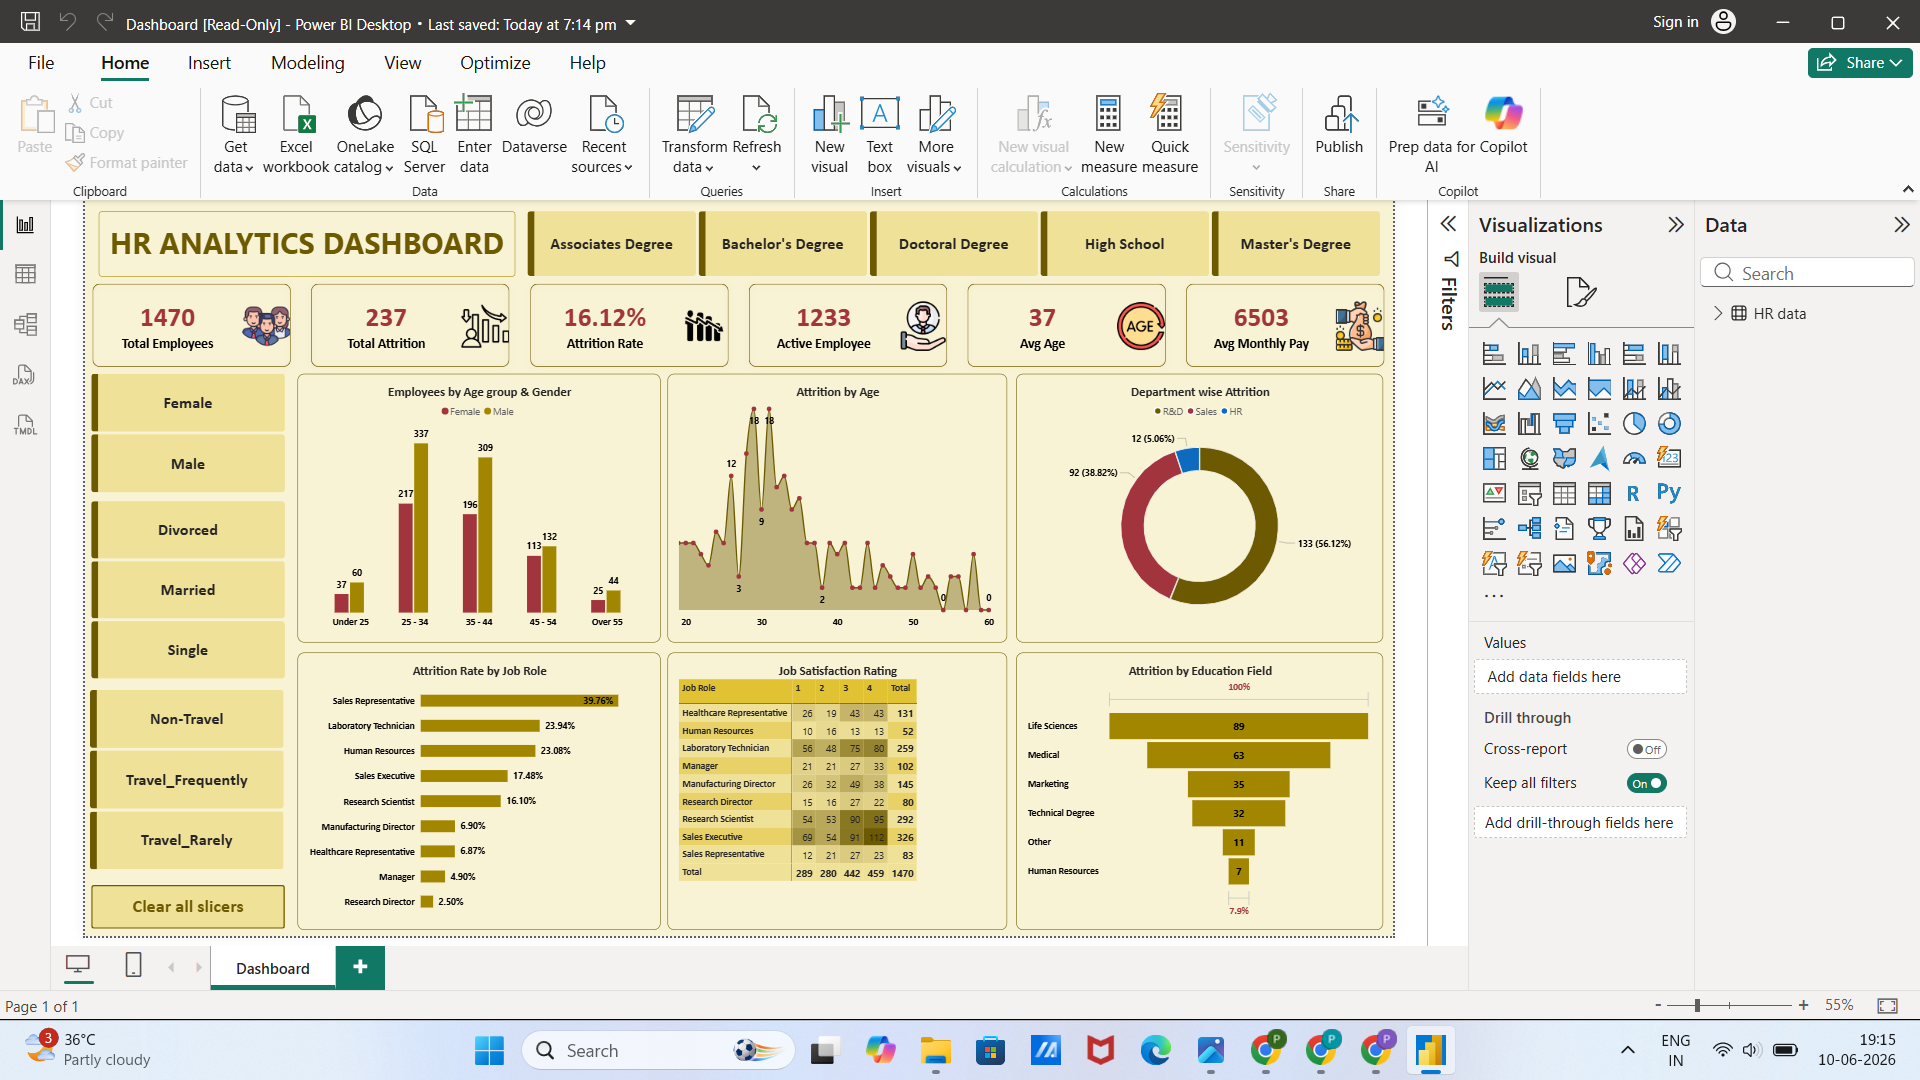

This screenshot's page, from the dashboard's own definition file:
{"tool":"powerbi","page":{"name":"Dashboard","canvas":[1920,1080],"ordinal":0},"visuals":[{"type":"cardVisual","fields":{"Data":["HR data.Total Employees","HR data.Total Attrition","HR data.Attrition Rate","HR data.Active Employee","Avg(HR data.Age)","Avg(HR data.Monthly Income)"]},"box":[0,111.4,1920,144.3],"z":0},{"type":"clusteredColumnChart","title":"Employees by Age group & Gender","fields":{"Category":["HR data.Age Group"],"Series":["HR data.Gender"],"Y":["HR data.Total Employees"]},"box":[311.4,255.7,532.9,394.3],"z":1000},{"type":"areaChart","title":"Attrition by Age","fields":{"Category":["HR data.Age"],"Y":["HR data.Total Attrition"]},"box":[854.3,255.7,498.6,394.3],"z":2000},{"type":"donutChart","title":"Department wise Attrition","fields":{"Category":["HR data.Department"],"Y":["HR data.Total Attrition"]},"box":[1365.7,255.7,538.6,394.3],"z":3000},{"type":"clusteredBarChart","fields":{"Category":["HR data.Job Role"],"Y":["HR data.Attrition Rate"]},"box":[311.4,663.3,532.9,407.1],"z":4000},{"type":"pivotTable","title":"Job Satisfaction Rating","fields":{"Columns":["HR data.Job Satisfaction"],"Rows":["HR data.Job Role"],"Values":["HR data.Total Employees"]},"box":[854.3,663.3,498.6,407.1],"z":5000},{"type":"funnel","title":"Attrition by Education Field","fields":{"Category":["HR data.Education Field"],"Y":["HR data.Total Attrition"]},"box":[1365.7,663.3,538.6,407.1],"z":6000},{"type":"advancedSlicerVisual","fields":{"Values":["HR data.Gender"]},"box":[10,255.7,284.3,174.3],"z":7000},{"type":"advancedSlicerVisual","fields":{"Values":["HR data.Marital Status"]},"box":[10,442.9,284.3,262.9],"z":8000},{"type":"advancedSlicerVisual","fields":{"Values":["HR data.Business Travel"]},"box":[7.1,718.6,284.3,265.7],"z":9000},{"type":"advancedSlicerVisual","fields":{"Values":["HR data.Education"]},"box":[648.6,15.7,1255.7,95.7],"z":10000},{"type":"actionButton","box":[10,1005.7,284.3,64.3],"z":11000},{"type":"textbox","box":[20,15.7,611.4,95.7],"z":12000}]}

Visuals, with their boxes on the page's 1920x1080 design canvas (x1, y1, x2, y2). These are canvas units, not pixel positions in the 1920x1080 screenshot, which may show the page scaled, cropped or inside an application window:
cardVisual - HR data.Total Employees x HR data.Total Attrition: box=[0, 111, 1920, 256]
"Employees by Age group & Gender" clusteredColumnChart: box=[311, 256, 844, 650]
"Attrition by Age" areaChart: box=[854, 256, 1353, 650]
"Department wise Attrition" donutChart: box=[1366, 256, 1904, 650]
clusteredBarChart - HR data.Job Role x HR data.Attrition Rate: box=[311, 663, 844, 1070]
"Job Satisfaction Rating" pivotTable: box=[854, 663, 1353, 1070]
"Attrition by Education Field" funnel: box=[1366, 663, 1904, 1070]
advancedSlicerVisual - HR data.Gender: box=[10, 256, 294, 430]
advancedSlicerVisual - HR data.Marital Status: box=[10, 443, 294, 706]
advancedSlicerVisual - HR data.Business Travel: box=[7, 719, 291, 984]
advancedSlicerVisual - HR data.Education: box=[649, 16, 1904, 111]
actionButton: box=[10, 1006, 294, 1070]
textbox: box=[20, 16, 631, 111]
